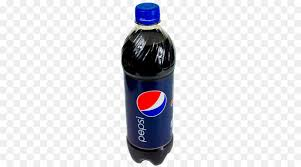bottle: (121, 2, 177, 167)
pepsi: (135, 88, 168, 118), (134, 115, 149, 145)
plastic: (125, 3, 174, 164)
